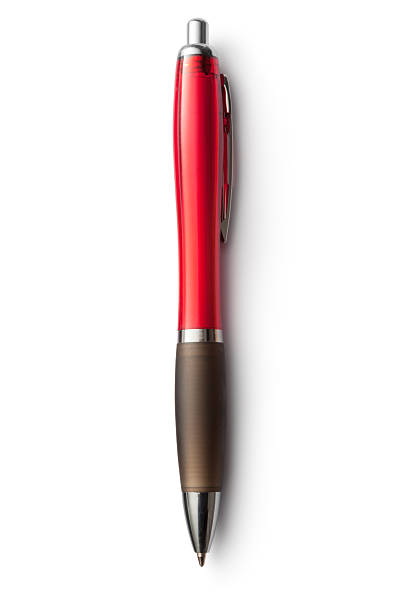pen: (158, 7, 254, 574)
